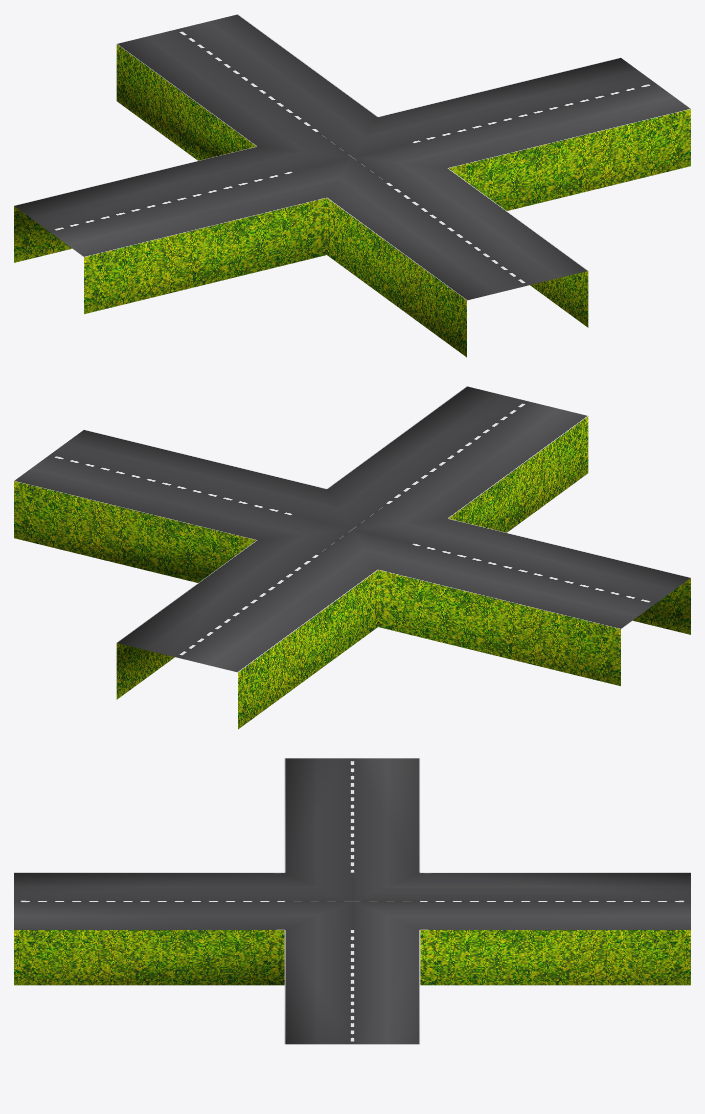
Rendered from kruising_weg_0.fbx.
3 views of the same model, one above another, from view 1: azimuth 30°, elevation 25°; view 2: azimuth 150°, elevation 25°; view 3: azimuth 270°, elevation 25° (orthographic). The views are drawn at different scales.
Parts seen in each view (by area): view 1: weg_0; view 2: weg_0; view 3: weg_0.
Part boxes in pixels (box(x1,y1,x2,y2)): weg_0: box(14, 14, 690, 357); weg_0: box(14, 386, 690, 729); weg_0: box(14, 758, 690, 1044).
Bounding box in the file's own units: 2500 × 225 × 2500.
